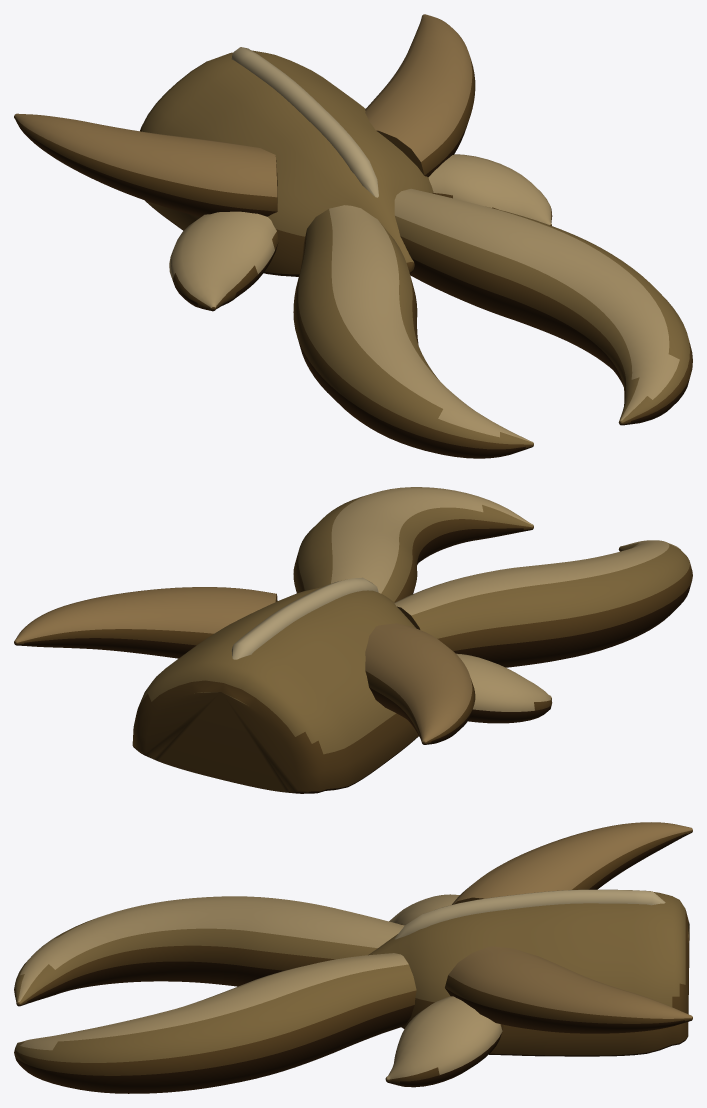
The model's file is tusk_beetle_51.glb.
3 views of the same model, one above another, from view 1: azimuth 30°, elevation 25°; view 2: azimuth 150°, elevation 25°; view 3: azimuth 270°, elevation 25° (orthographic). The views are drawn at different scales.
Parts seen in each view (by area): view 1: tusk_r, tusk_l, carapace, horn_l, horn_r, plate_l, plate_r, keel; view 2: carapace, tusk_l, tusk_r, horn_r, horn_l, plate_l, keel; view 3: tusk_r, tusk_l, carapace, horn_r, horn_l, plate_r, keel, plate_l.
Boxes of the visible parts, <box> form: tusk_r: <box>394,188,692,425</box>; tusk_l: <box>293,205,533,458</box>; carapace: <box>140,50,433,276</box>; horn_l: <box>14,113,277,216</box>; horn_r: <box>365,14,475,177</box>; plate_l: <box>169,211,278,311</box>; plate_r: <box>428,154,552,225</box>; keel: <box>231,47,378,197</box>; carapace: <box>132,587,418,793</box>; tusk_l: <box>394,540,692,667</box>; tusk_r: <box>293,487,533,602</box>; horn_r: <box>14,587,277,658</box>; horn_l: <box>365,623,475,744</box>; plate_l: <box>456,653,552,723</box>; keel: <box>231,577,378,659</box>; tusk_r: <box>14,953,416,1093</box>; tusk_l: <box>14,896,404,1006</box>; carapace: <box>368,890,689,1056</box>; horn_r: <box>445,946,692,1033</box>; horn_l: <box>452,822,692,904</box>; plate_r: <box>385,996,503,1087</box>; keel: <box>394,889,665,939</box>; plate_l: <box>389,894,459,925</box>.
Bounding box in the file's own units: 18.81 × 6.5 × 27.66.
